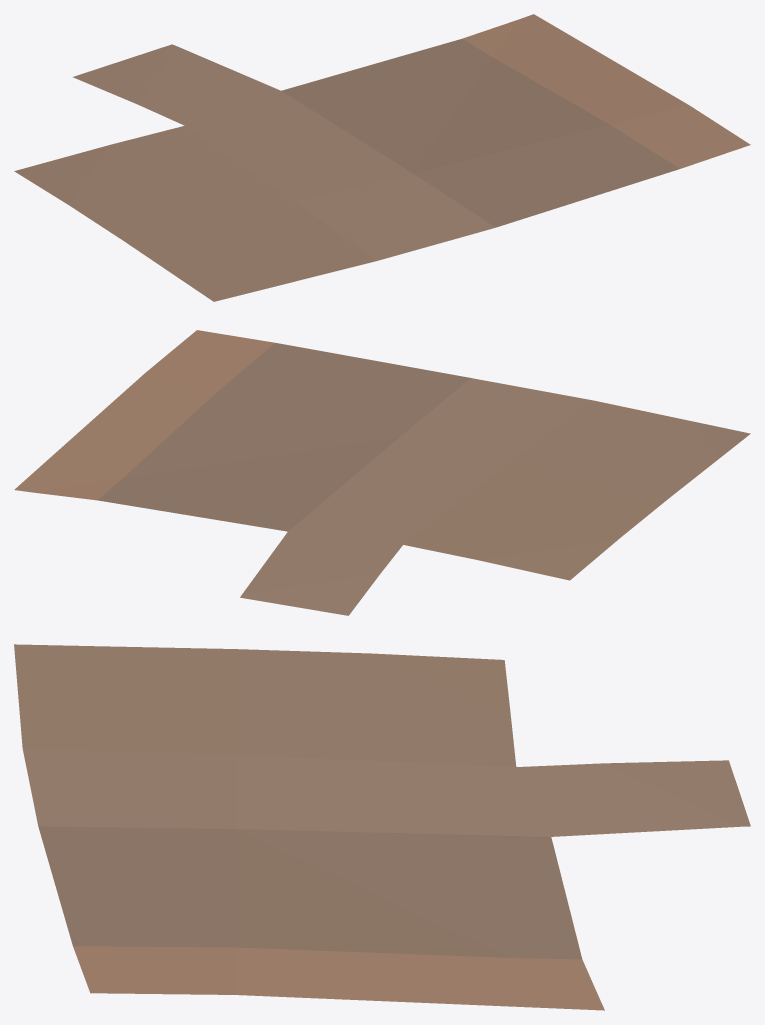
File: farm_37_22_soil.glb
The picture shows the model from 3 angles, top to bottom: view 1: azimuth 30°, elevation 25°; view 2: azimuth 150°, elevation 25°; view 3: azimuth 270°, elevation 25°; orthographic projection. The views are drawn at different scales.
Parts seen in each view (by area): view 1: geometry_0; view 2: geometry_0; view 3: geometry_0.
Boxes of the visible parts, <box> form: geometry_0: <box>14,14,750,301</box>; geometry_0: <box>14,330,750,615</box>; geometry_0: <box>14,644,750,1010</box>.
Bounding box in the file's own units: 119 × 4.54 × 107.
